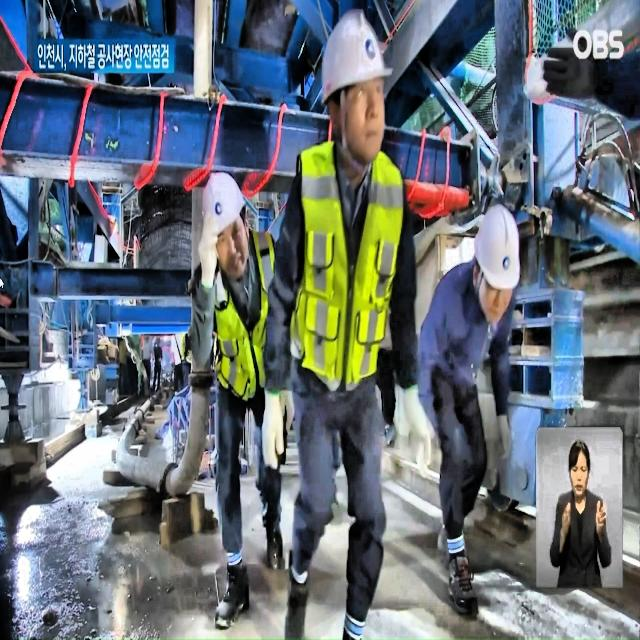safety_helmet: (304, 1, 408, 100), (461, 199, 544, 318), (182, 160, 252, 239)
safety_jacket: (297, 147, 395, 403), (193, 246, 284, 436)
